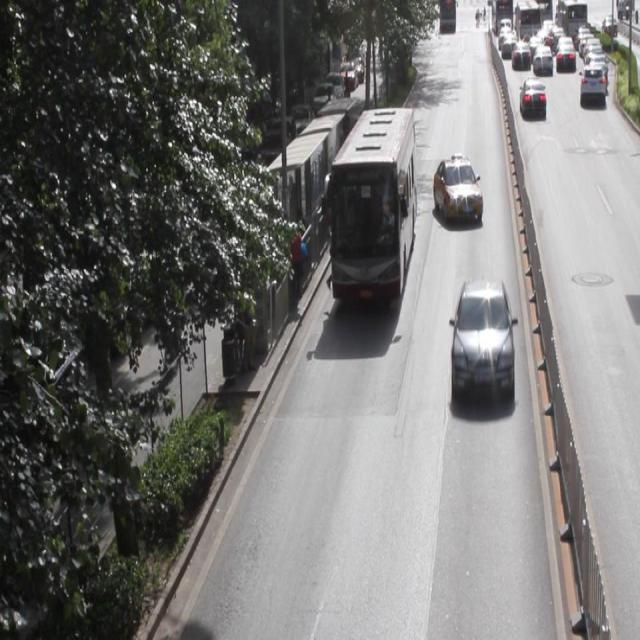car: (450, 276, 512, 397), (433, 156, 481, 224)
van: (330, 106, 414, 298)
